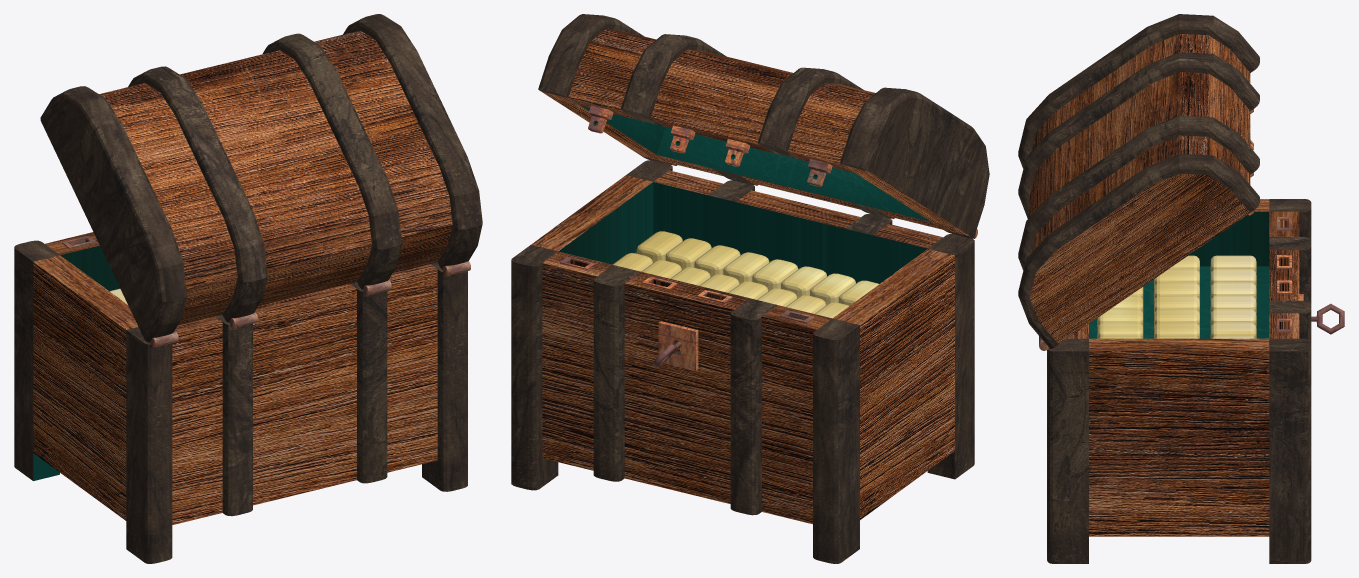
3 renders of one model, left to right at view 1: azimuth 30°, elevation 25°; view 2: azimuth 150°, elevation 25°; view 3: azimuth 270°, elevation 25°, orthographic. The views are drawn at different scales.
Parts seen in each view (by area): view 1: Cassa_0, Coperchio_3, Cerniere_7; view 2: Cassa_0, Coperchio_3, Lingotti_4, Serratura_5; view 3: Cassa_0, Coperchio_3, Lingotti_4, Serratura_5, Chiave_6.
Part boxes in pixels (x1,y1,x2,y2): Cassa_0: [14, 232, 467, 563]; Coperchio_3: [40, 14, 482, 342]; Cerniere_7: [150, 261, 470, 347]; Cassa_0: [511, 160, 974, 563]; Coperchio_3: [538, 14, 989, 238]; Lingotti_4: [613, 231, 878, 318]; Serratura_5: [560, 256, 814, 370]; Cassa_0: [1047, 199, 1311, 563]; Coperchio_3: [1018, 14, 1259, 348]; Lingotti_4: [1097, 255, 1256, 338]; Serratura_5: [1277, 217, 1303, 332]; Chiave_6: [1311, 303, 1344, 334].
Bounding box in the file's own units: 6 × 7.34 × 5.43.
6 materials, 5 textured.
